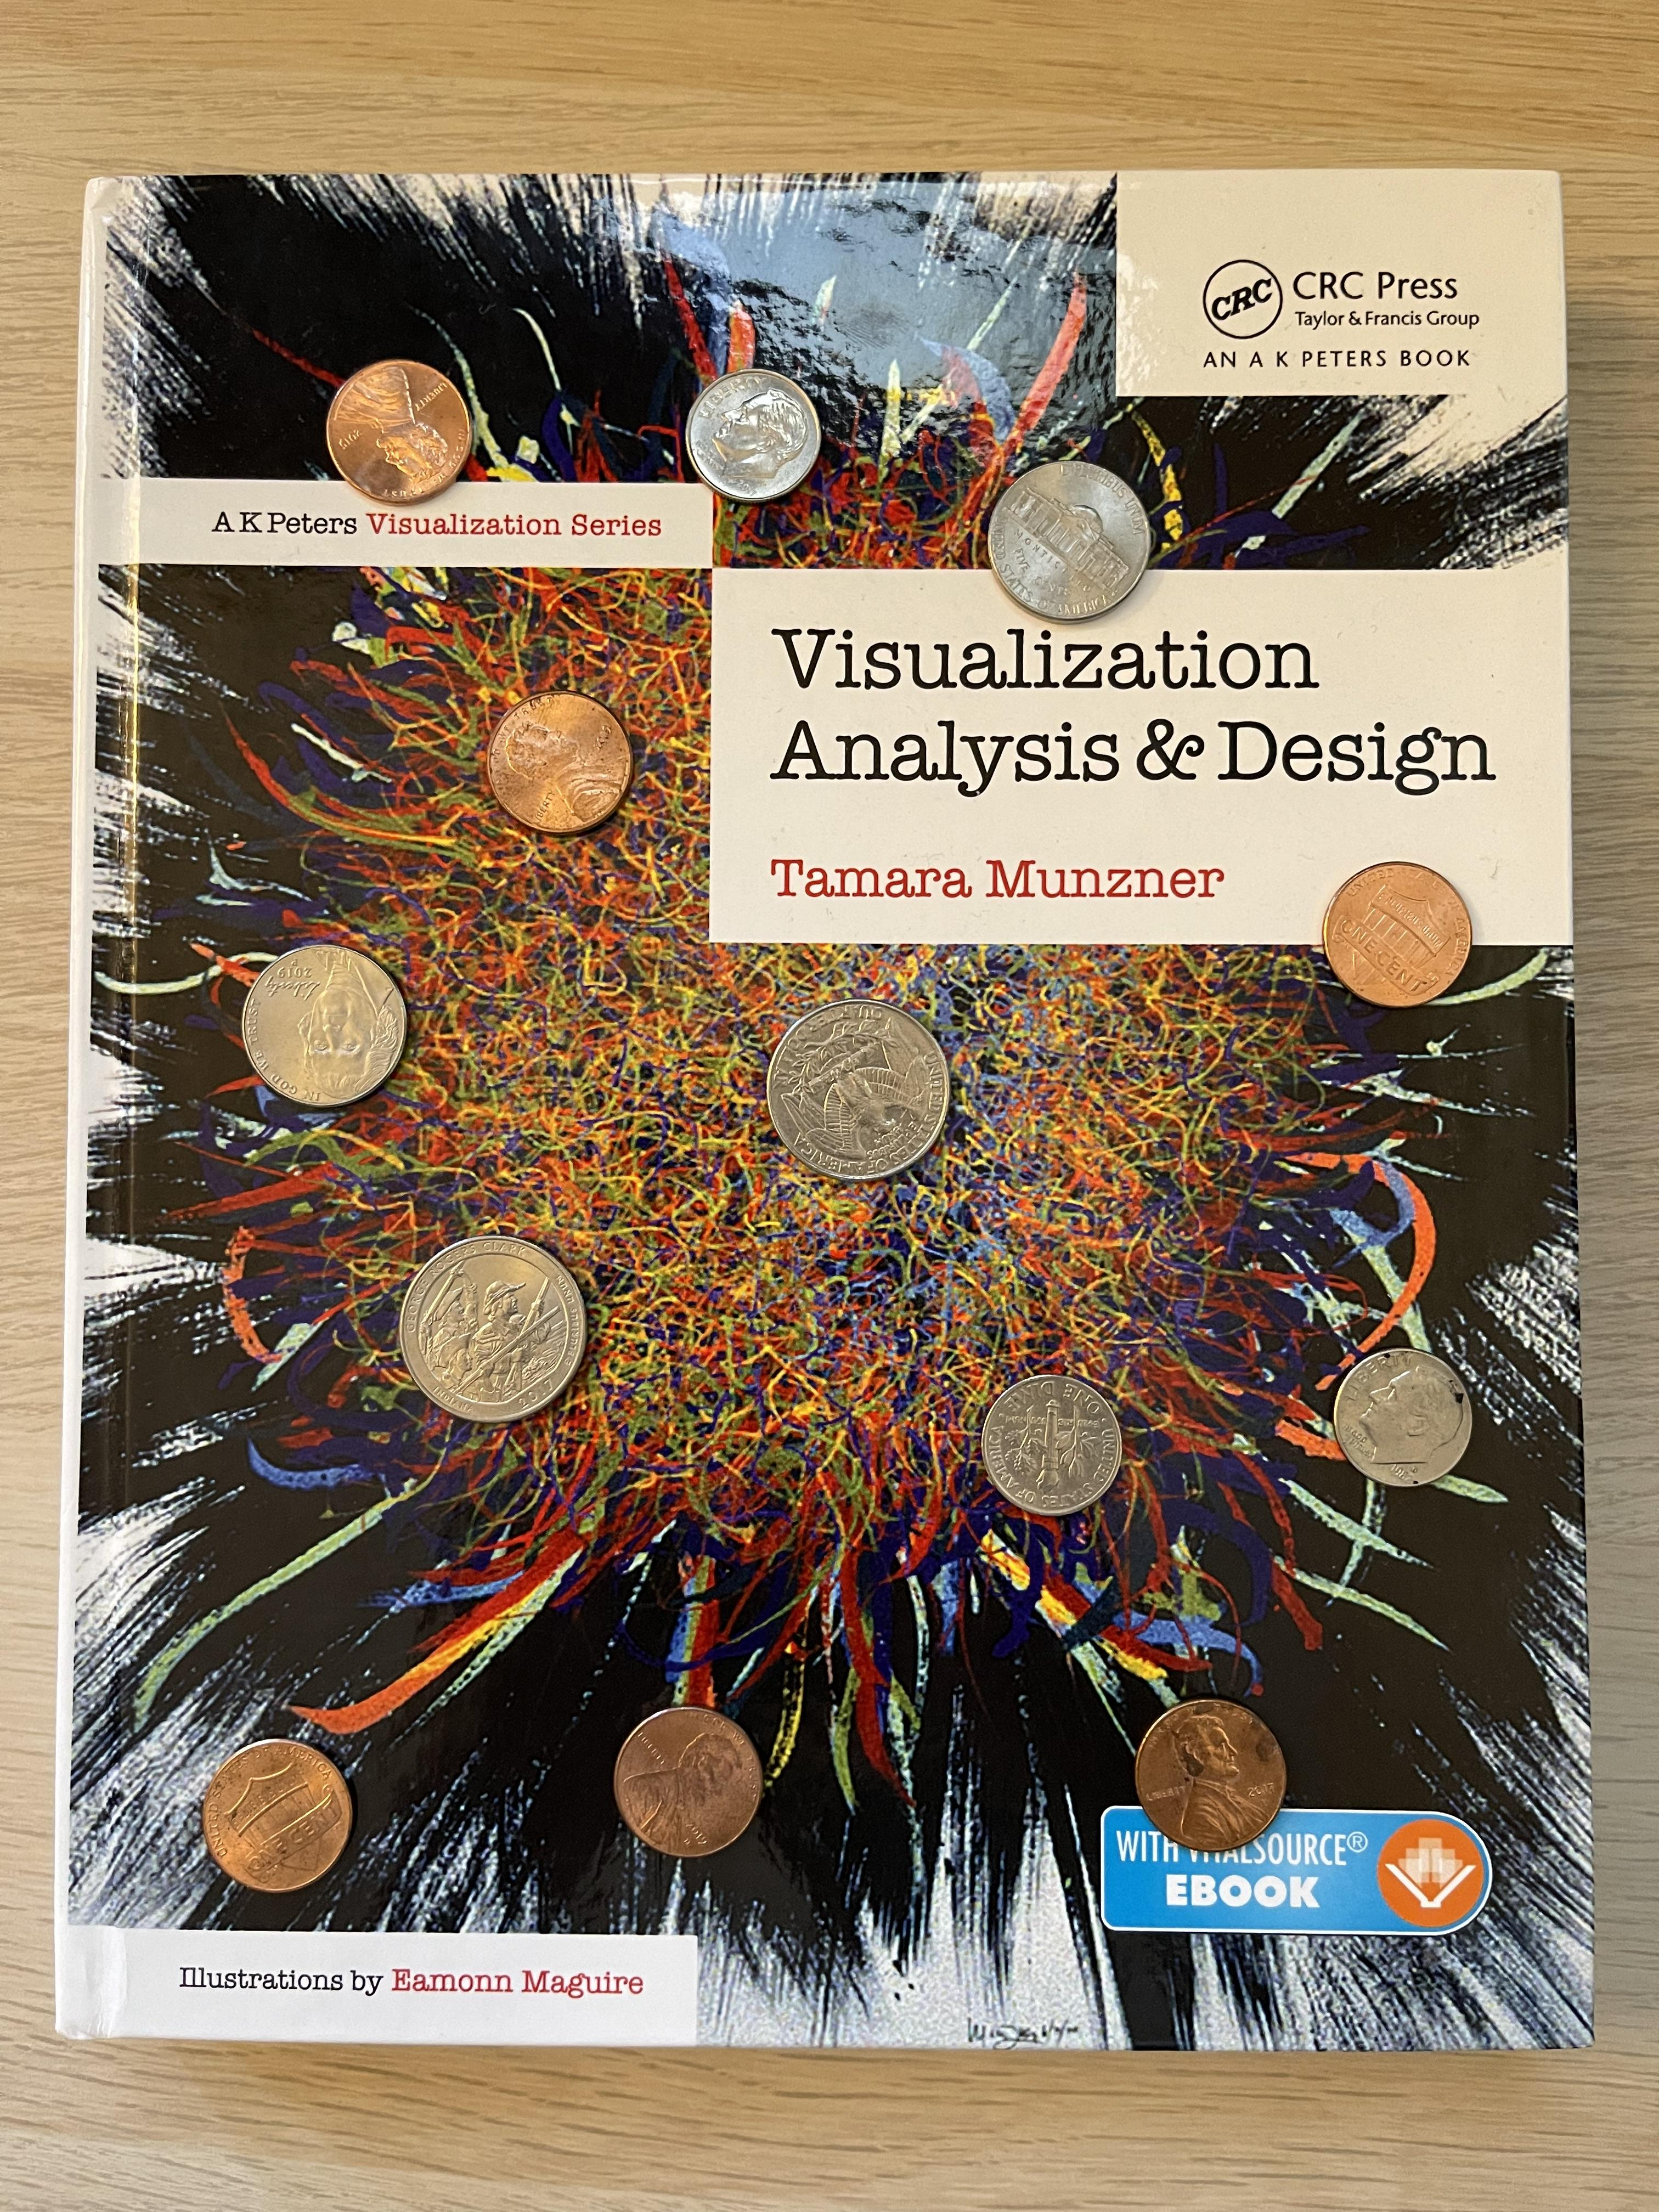Dime: (979, 1372, 1124, 1517), (1331, 1346, 1473, 1487), (683, 366, 821, 503)
Nickel: (240, 944, 408, 1109), (985, 458, 1152, 622)
Penny: (1133, 1698, 1288, 1853), (200, 1737, 354, 1893), (612, 1705, 765, 1858), (1321, 860, 1474, 1008), (324, 359, 472, 507), (486, 690, 634, 834)
Quarter: (399, 1235, 587, 1423), (765, 998, 951, 1181)
